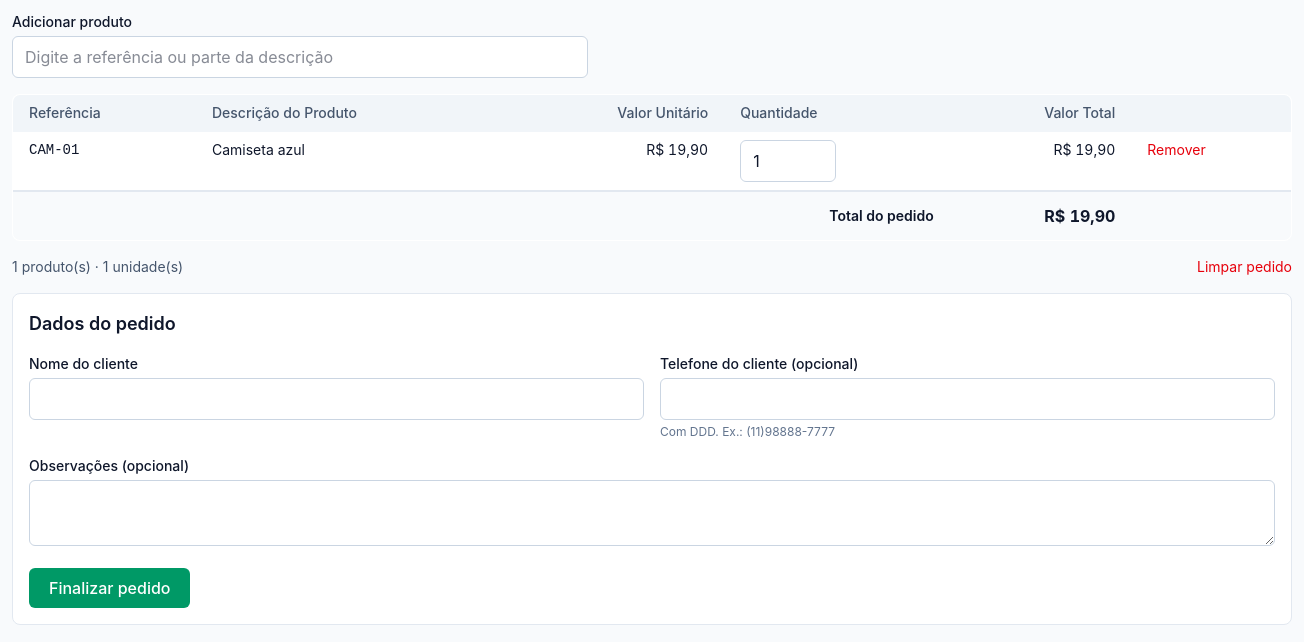
it: salvamento automático do rascunho › mostra o erro devolvido pelo servidor
Step 1. Replace the text in the field named "Quantidade de CAM-01" with "2" → (788,161), box [740,140,836,182]
Wait 600 ms
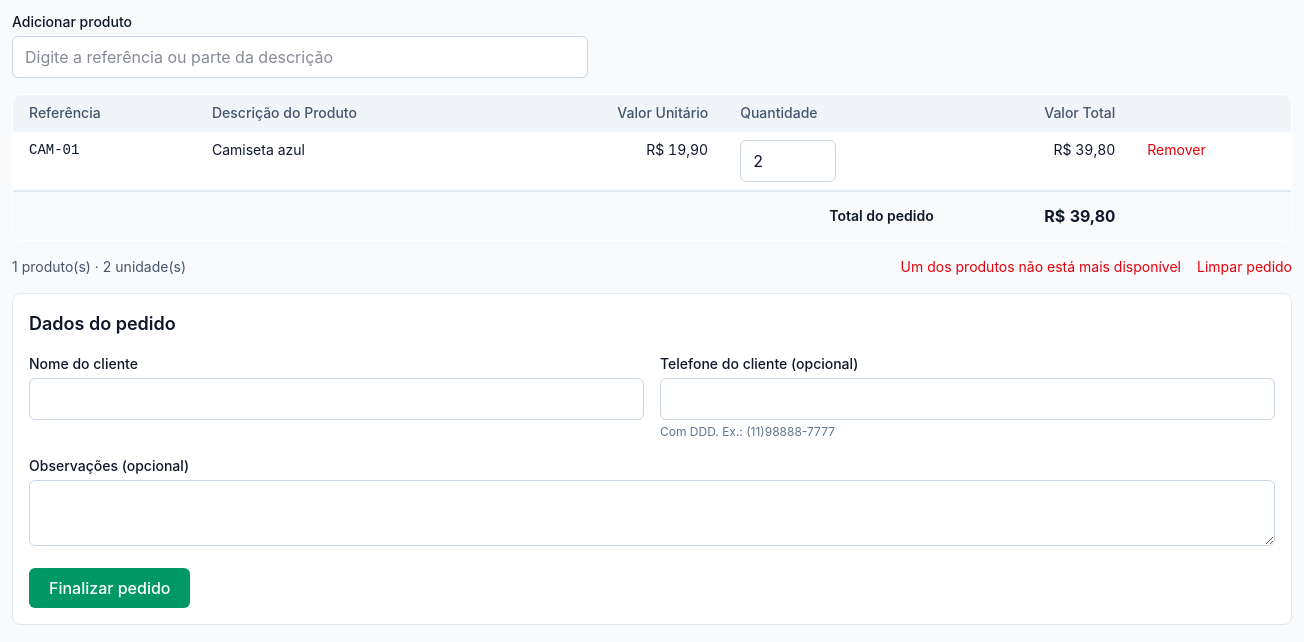
Expected: the message with test id "save-status" reads "Um dos produtos não está mais disponível", [901,258,1181,275]
